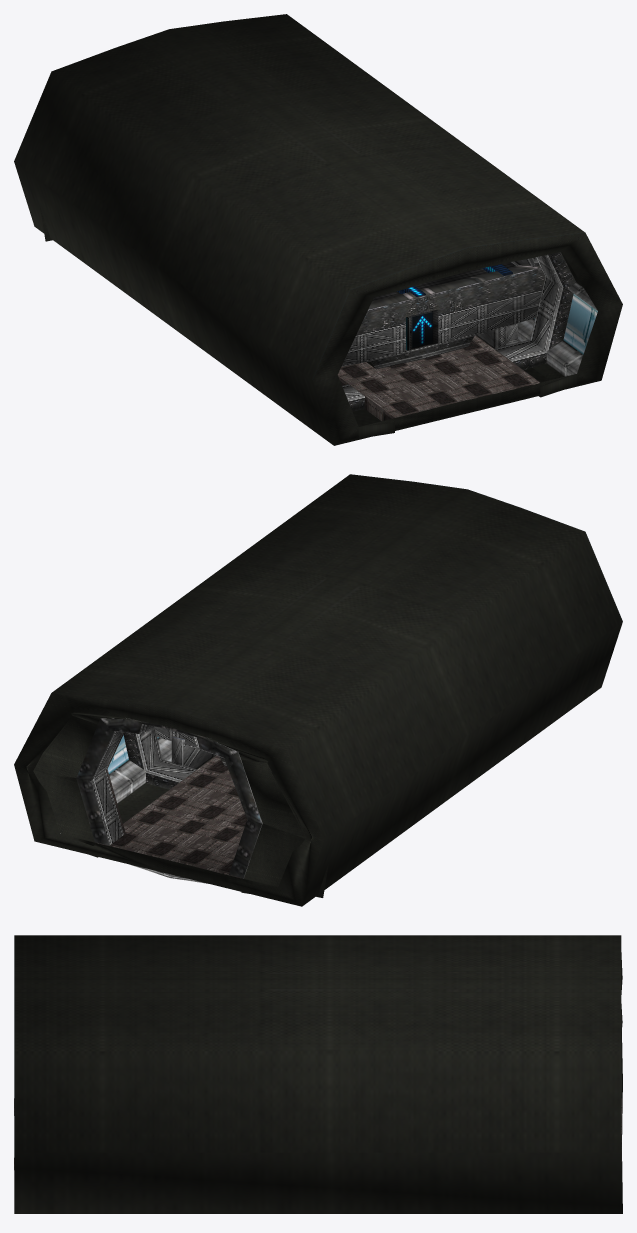
The model's file is downWideCorridor.fbx.
3 renders of one model, top to bottom at view 1: azimuth 30°, elevation 25°; view 2: azimuth 150°, elevation 25°; view 3: azimuth 270°, elevation 25°, orthographic.
Visible parts, largest first — view 1: Mesh_001, Mesh_014, Mesh_020, Mesh_006, Mesh_005, Mesh_017; view 2: Mesh_001, Mesh_020, Mesh_004, Mesh_017; view 3: Mesh_001.
Part boxes in pixels (x1=…): Mesh_001: x1=14, y1=14, x2=622, y2=445; Mesh_014: x1=341, y1=262, x2=545, y2=369; Mesh_020: x1=337, y1=335, x2=539, y2=417; Mesh_006: x1=342, y1=252, x2=576, y2=411; Mesh_005: x1=406, y1=310, x2=438, y2=350; Mesh_017: x1=477, y1=323, x2=517, y2=348; Mesh_001: x1=14, y1=474, x2=622, y2=906; Mesh_020: x1=97, y1=755, x2=247, y2=878; Mesh_004: x1=123, y1=726, x2=196, y2=789; Mesh_017: x1=171, y1=736, x2=215, y2=769; Mesh_001: x1=14, y1=935, x2=622, y2=1213.
Bounding box in the file's own units: 180 × 94.59 × 302.
Materials: 3 (3 with a texture image).
